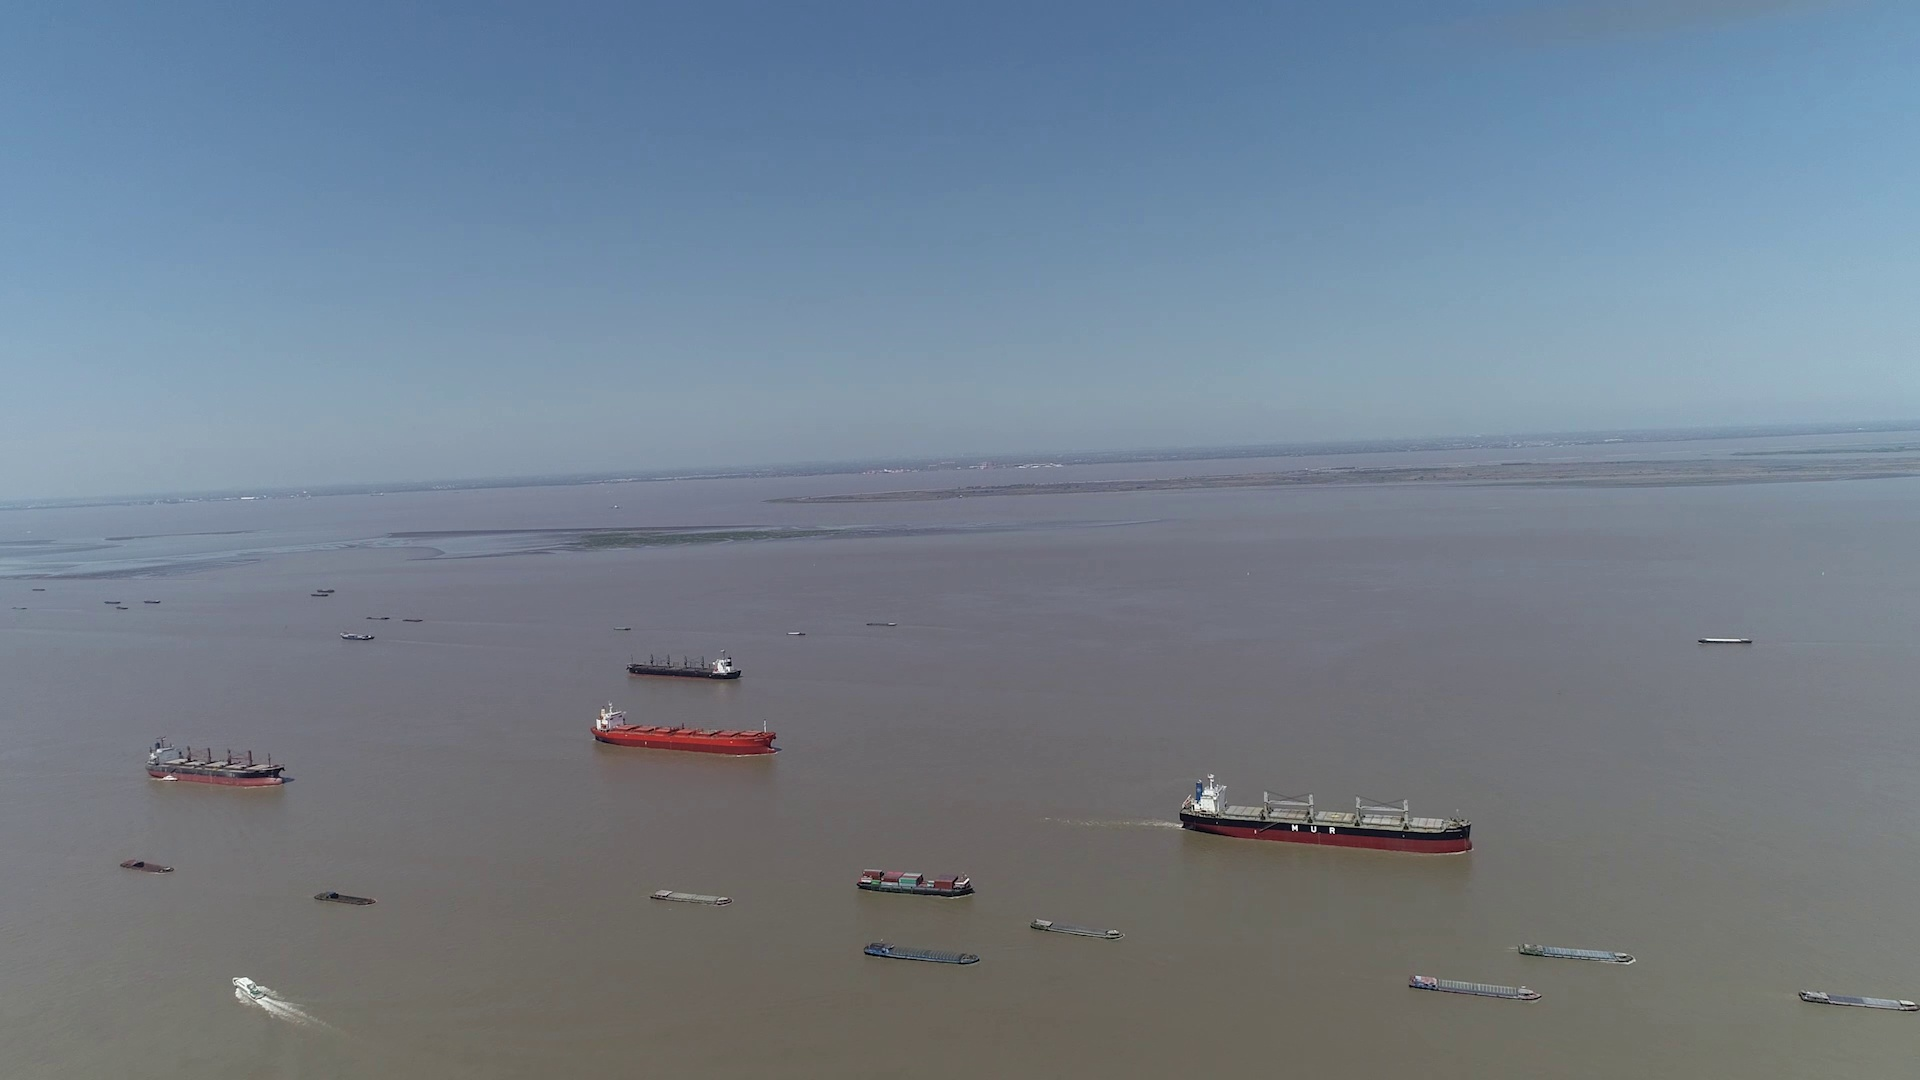ship: (1178, 775, 1474, 855), (592, 703, 777, 754), (146, 736, 289, 787), (1410, 975, 1544, 1001), (626, 651, 740, 678), (857, 870, 973, 895), (1797, 988, 1920, 1010), (862, 942, 978, 964), (1519, 942, 1633, 963), (1030, 916, 1125, 939), (649, 889, 732, 906), (235, 975, 272, 1005), (117, 858, 175, 876), (315, 891, 375, 905), (1698, 636, 1750, 645), (342, 632, 378, 640)
